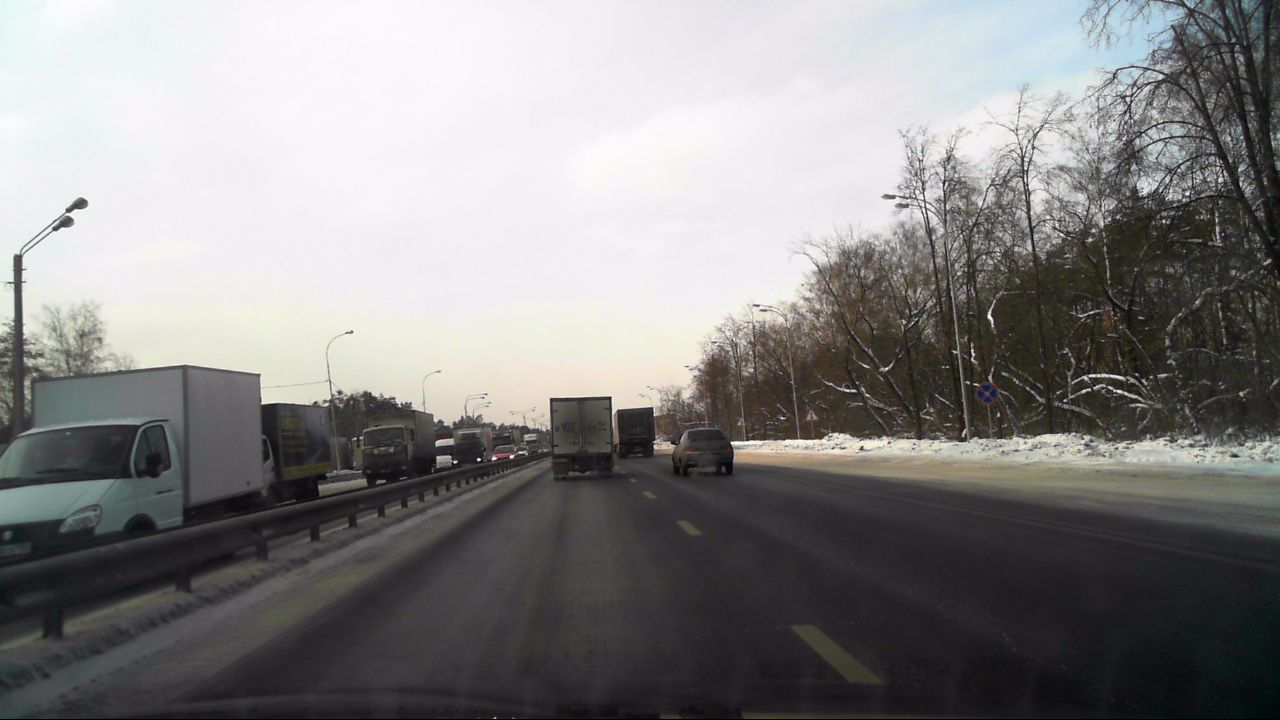No Parking: (975, 381, 997, 406)
